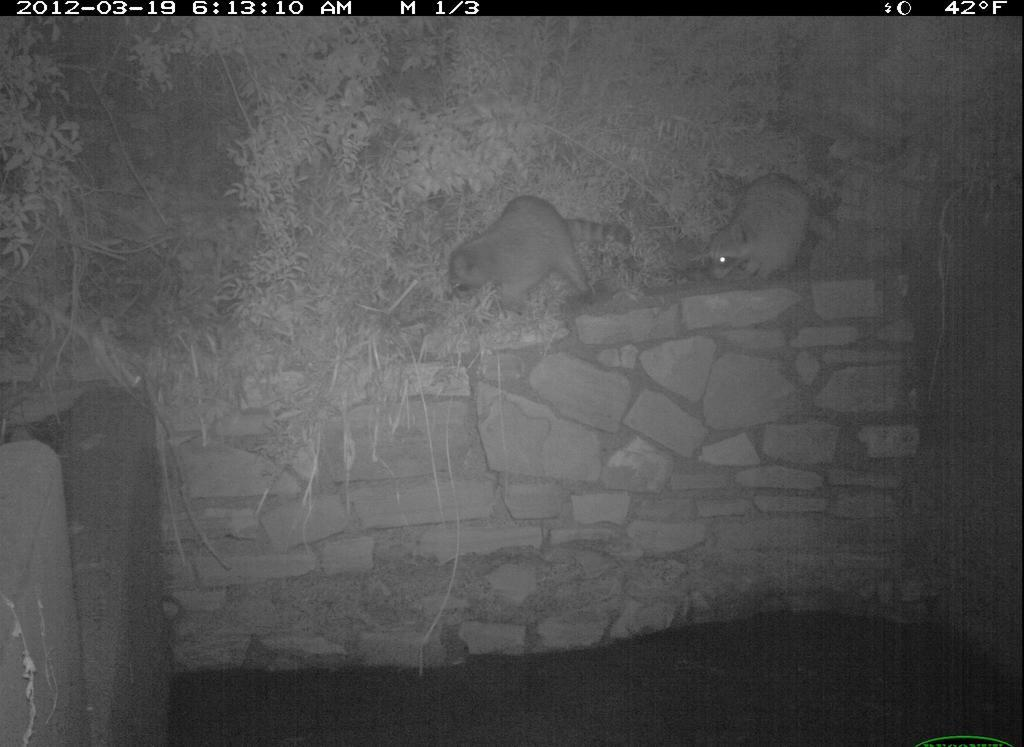raccoon: (434, 191, 639, 332), (694, 169, 853, 292)
